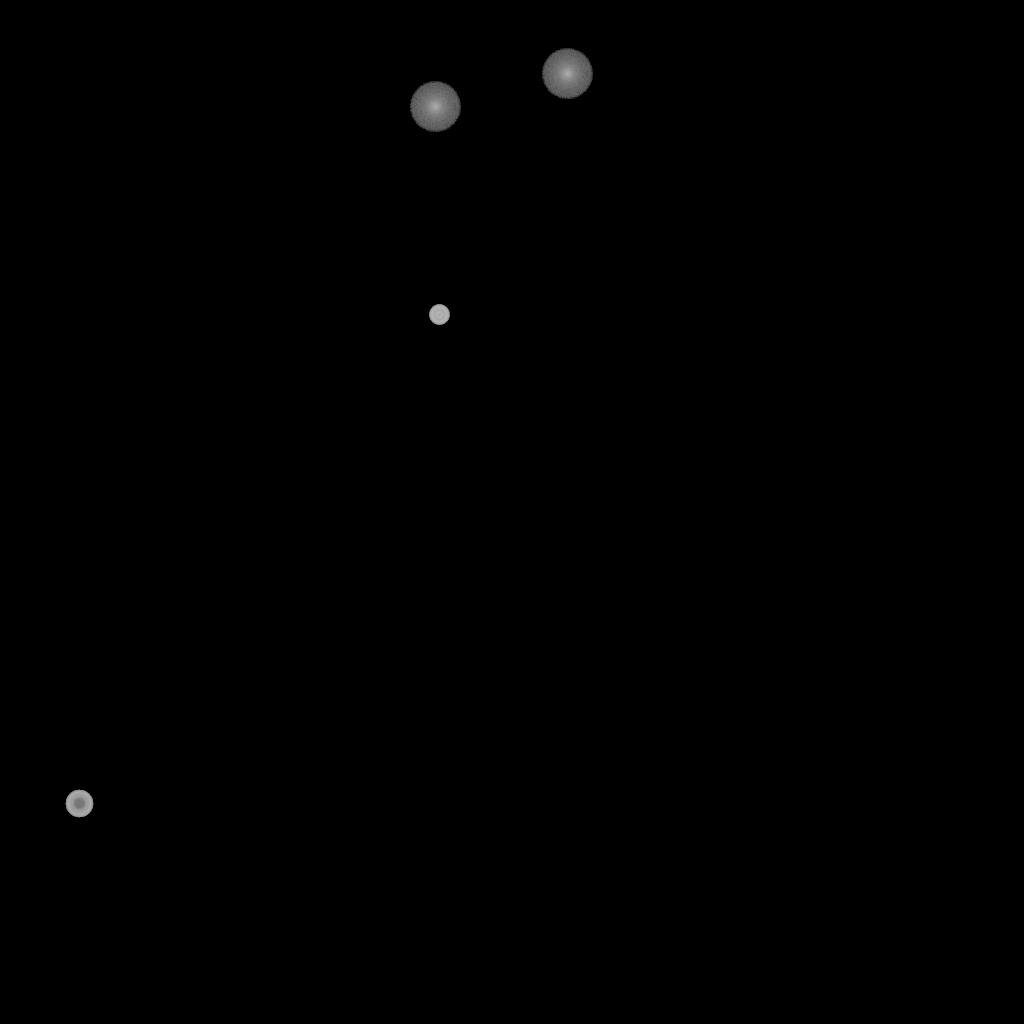depth:-40: (429, 305, 449, 325)
depth:-50: (65, 790, 93, 818)
depth:20: (409, 82, 461, 132), (541, 49, 593, 99)
